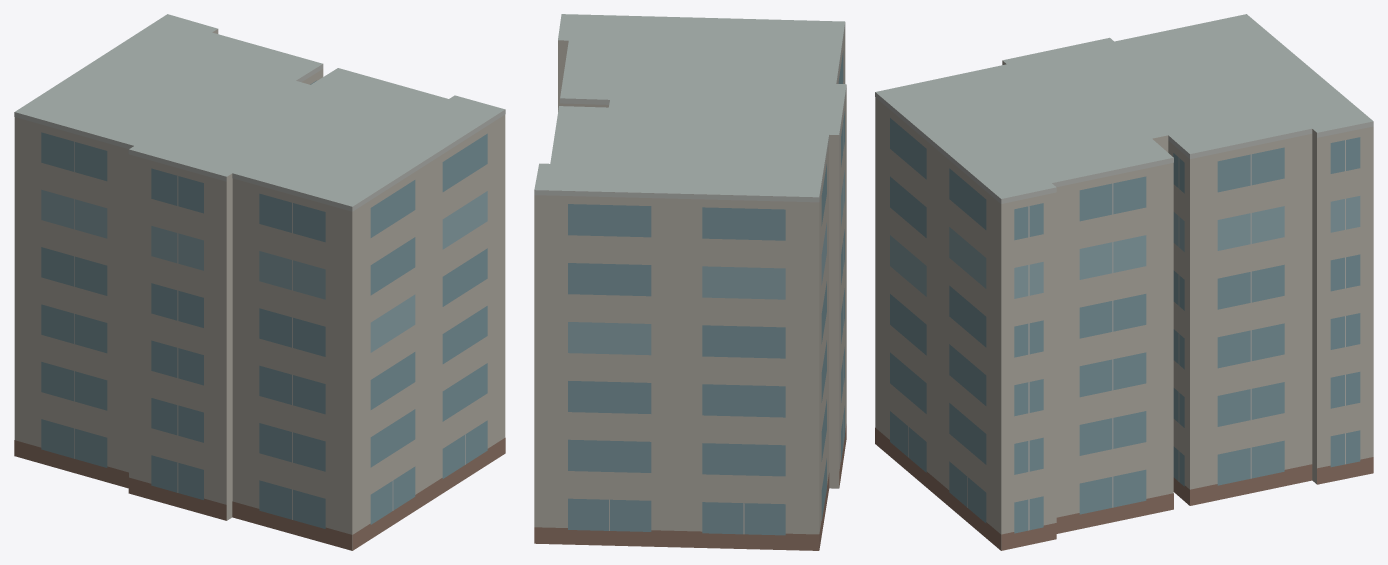
File: survey-upis-32724292.glb
3 views of the same model, side by side, from view 1: azimuth 30°, elevation 25°; view 2: azimuth 150°, elevation 25°; view 3: azimuth 270°, elevation 25° (orthographic). The views are drawn at different scales.
Parts seen in each view (by area): view 1: survey-upis-32724292.tmp; view 2: survey-upis-32724292.tmp; view 3: survey-upis-32724292.tmp.
Boxes of the visible parts, x1,y1,x2,y2 form: survey-upis-32724292.tmp: (14,14,505,550); survey-upis-32724292.tmp: (534,14,846,550); survey-upis-32724292.tmp: (875,14,1373,550).
Size of the model in its own units: 19.13 by 16.95 by 21.78.
